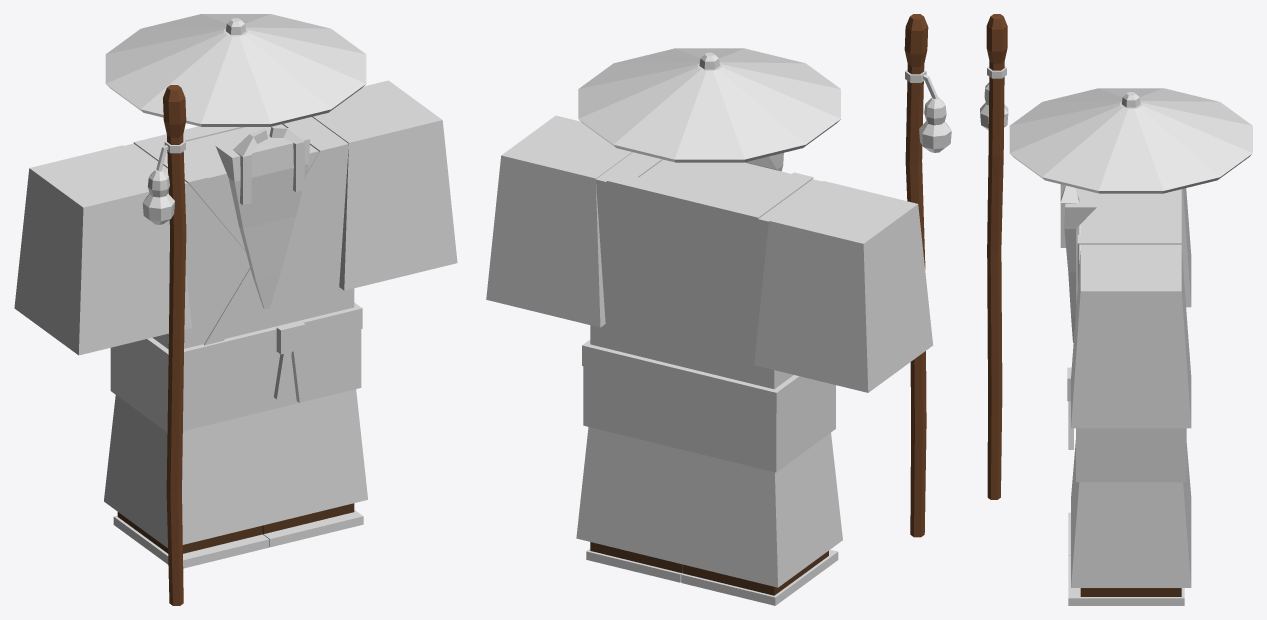
The model's file is w1_keeper_sensei.fbx.
3 renders of one model, left to right at view 1: azimuth 30°, elevation 25°; view 2: azimuth 150°, elevation 25°; view 3: azimuth 270°, elevation 25°, orthographic. The views are drawn at different scales.
Parts seen in each view (by area): view 1: SenseiGear.Trousers, SenseiGear.SleeveR, SenseiGear.Hat, SenseiGear.SleeveL, SenseiGear.Gi, SenseiGear.Skirt, SenseiGear.Beard, SenseiGear.Staff, SenseiGear.Belt, SenseiGear.Lapel, SenseiGear.Sandals, SenseiGear.Straps (+1 smaller); view 2: SenseiGear.Gi, SenseiGear.SleeveR, SenseiGear.Trousers, SenseiGear.Hat, SenseiGear.SleeveL, SenseiGear.Skirt, SenseiGear.Staff, SenseiGear.Belt, SenseiGear.Lapel, SenseiGear.Sandals, SenseiGear.Straps, SenseiGear.Gourd; view 3: SenseiGear.SleeveL, SenseiGear.Hat, SenseiGear.Trousers, SenseiGear.Staff, SenseiGear.Skirt, SenseiGear.Gi, SenseiGear.Beard, SenseiGear.Lapel, SenseiGear.Sandals, SenseiGear.SleeveR, SenseiGear.Straps, SenseiGear.Gourd.
Boxes of the visible parts, bbox=[...] form: SenseiGear.Trousers: bbox=[104, 389, 367, 547]; SenseiGear.SleeveR: bbox=[14, 145, 191, 355]; SenseiGear.Hat: bbox=[105, 14, 366, 126]; SenseiGear.SleeveL: bbox=[312, 80, 457, 290]; SenseiGear.Gi: bbox=[124, 117, 354, 348]; SenseiGear.Skirt: bbox=[110, 329, 361, 432]; SenseiGear.Beard: bbox=[215, 125, 310, 308]; SenseiGear.Staff: bbox=[163, 85, 186, 605]; SenseiGear.Belt: bbox=[126, 302, 362, 402]; SenseiGear.Lapel: bbox=[133, 119, 339, 345]; SenseiGear.Sandals: bbox=[113, 510, 363, 568]; SenseiGear.Straps: bbox=[117, 503, 354, 553]; SenseiGear.Gi: bbox=[590, 152, 822, 389]; SenseiGear.SleeveR: bbox=[754, 181, 933, 392]; SenseiGear.Trousers: bbox=[576, 427, 842, 587]; SenseiGear.Hat: bbox=[578, 48, 840, 162]; SenseiGear.SleeveL: bbox=[486, 115, 632, 327]; SenseiGear.Skirt: bbox=[583, 366, 835, 472]; SenseiGear.Staff: bbox=[904, 14, 928, 537]; SenseiGear.Belt: bbox=[582, 339, 819, 413]; SenseiGear.Lapel: bbox=[606, 154, 813, 218]; SenseiGear.Sandals: bbox=[586, 549, 838, 605]; SenseiGear.Straps: bbox=[590, 542, 828, 595]; SenseiGear.Gourd: bbox=[919, 97, 951, 152]; SenseiGear.SleeveL: bbox=[1071, 248, 1191, 428]; SenseiGear.Hat: bbox=[1009, 88, 1252, 193]; SenseiGear.Trousers: bbox=[1071, 440, 1191, 587]; SenseiGear.Staff: bbox=[986, 14, 1007, 499]; SenseiGear.Skirt: bbox=[1076, 428, 1186, 482]; SenseiGear.Gi: bbox=[1080, 193, 1181, 248]; SenseiGear.Beard: bbox=[1060, 184, 1096, 342]; SenseiGear.Lapel: bbox=[1077, 189, 1181, 285]; SenseiGear.Sandals: bbox=[1068, 512, 1184, 605]; SenseiGear.SleeveR: bbox=[1076, 188, 1191, 307]; SenseiGear.Straps: bbox=[1080, 588, 1181, 596]; SenseiGear.Gourd: bbox=[980, 82, 1008, 130].
Bounding box in the file's own units: 4.28 × 5.62 × 2.86.
